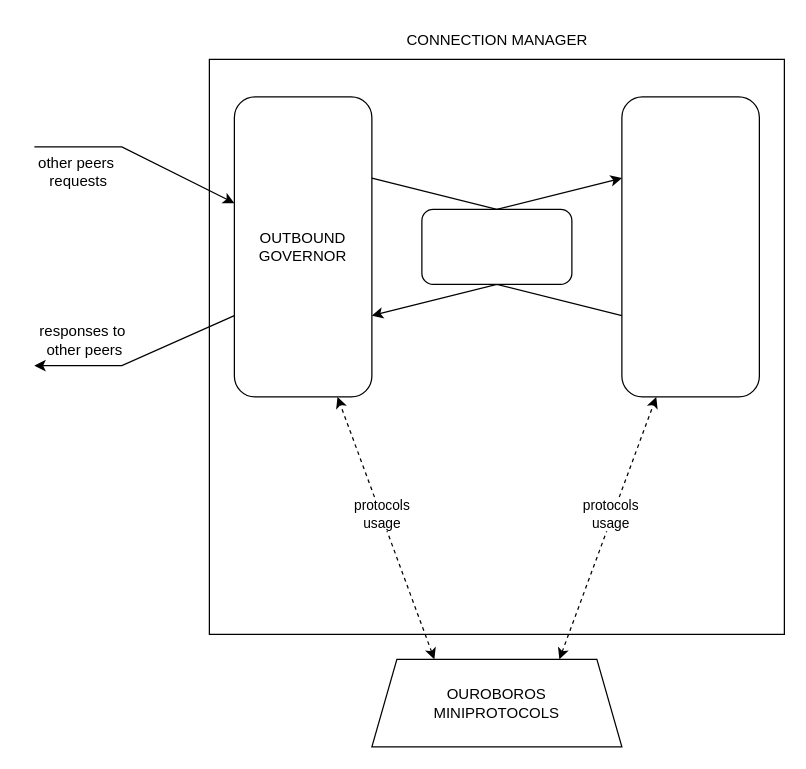
The diagram is 806 pixels wide and 769 high, and some of its shapes have lost their labels. Here are the shapes that lost their labels. From the top down, the centre of each, then its label:
[496,246]: CONNECTIONS
[690,246]: INBOUND GOVERNOR
